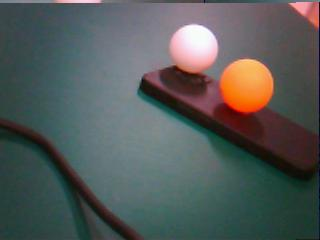oball: (221, 58, 274, 114)
